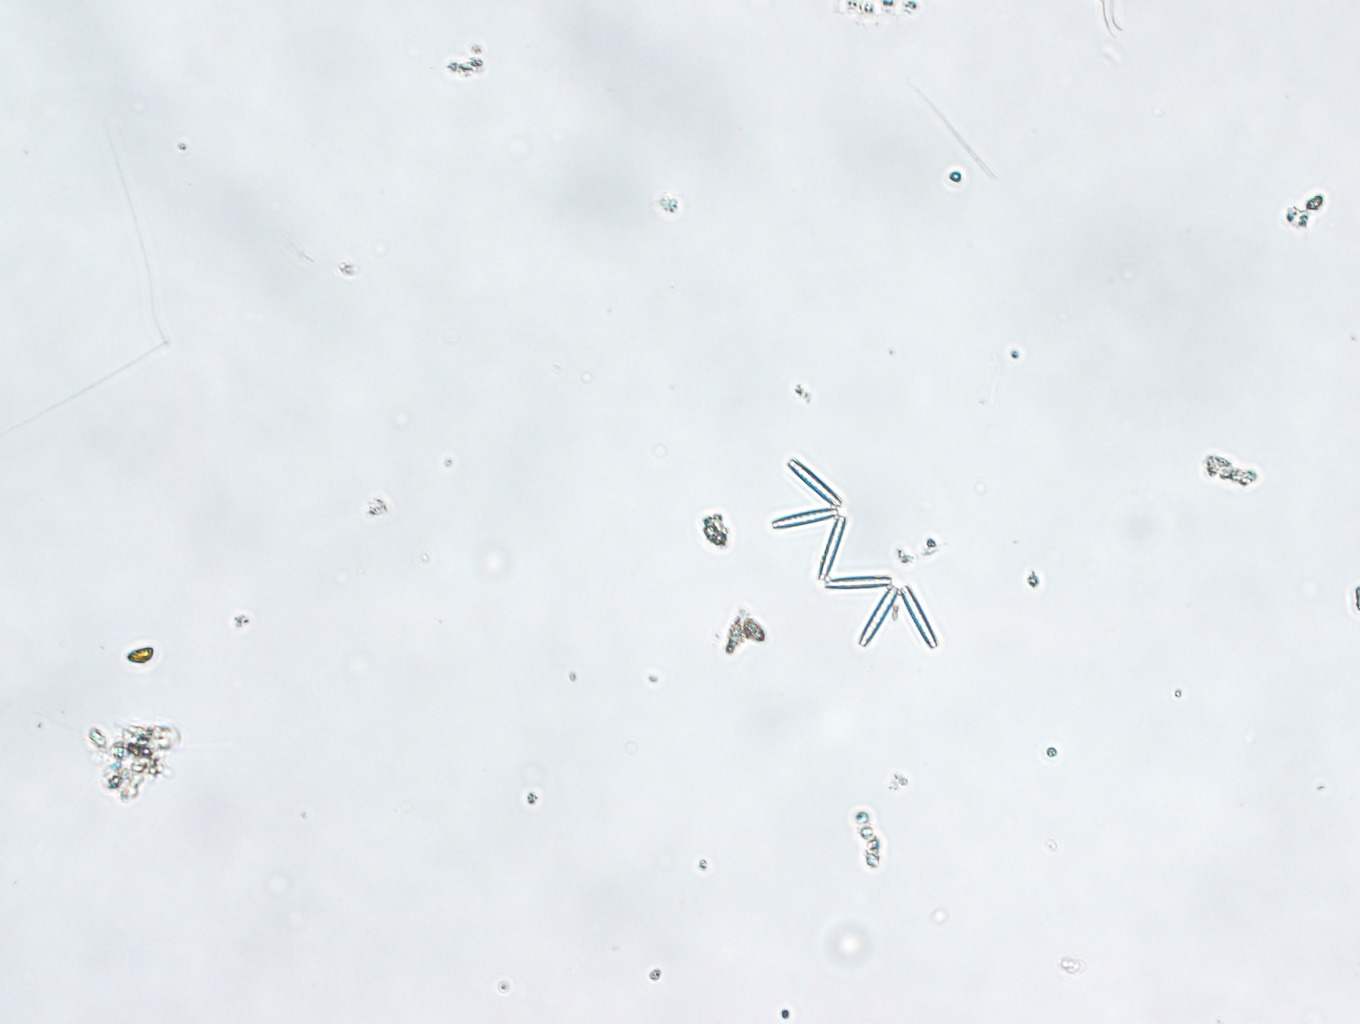thalassionema nitzschioides: (771, 459, 935, 650)
